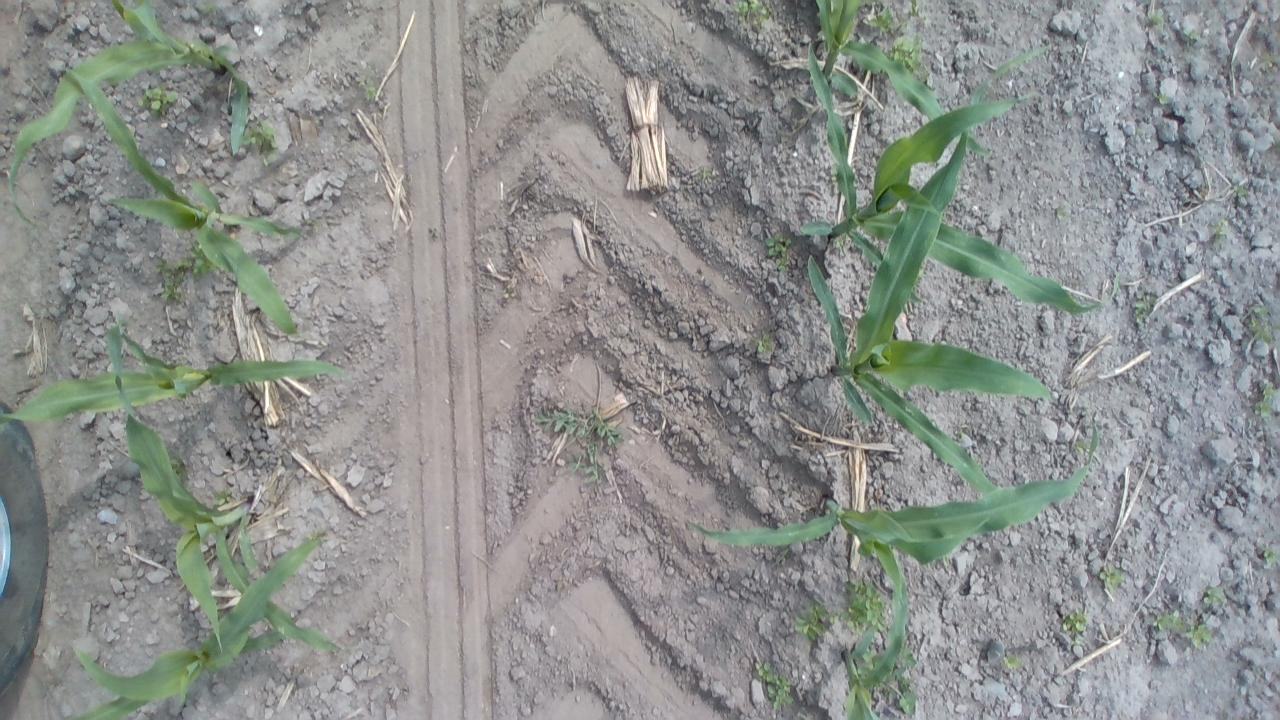Maize: (798, 129, 1060, 514), (796, 40, 1126, 328), (62, 57, 315, 344), (3, 0, 262, 238), (118, 396, 348, 664), (678, 460, 1108, 594), (57, 534, 338, 720), (0, 320, 355, 432), (802, 0, 996, 151), (842, 523, 936, 720)
Weeds: (532, 398, 625, 485), (836, 577, 888, 635), (751, 658, 802, 711), (791, 598, 835, 643), (760, 228, 799, 278), (238, 116, 282, 160), (886, 666, 920, 716), (154, 258, 188, 306), (134, 84, 182, 118), (886, 36, 928, 72), (1130, 284, 1162, 328), (1058, 606, 1091, 648), (1244, 302, 1274, 346), (1180, 618, 1216, 652), (186, 238, 216, 278), (733, 0, 776, 26), (1095, 560, 1127, 594), (864, 8, 904, 34), (1250, 380, 1276, 419), (1068, 437, 1095, 470), (1200, 583, 1230, 612), (361, 79, 390, 109), (1152, 608, 1182, 636), (690, 162, 716, 194), (1211, 219, 1232, 250), (1226, 180, 1253, 204), (1256, 542, 1278, 570), (197, 0, 224, 21), (1150, 86, 1174, 108), (753, 330, 775, 354), (1000, 653, 1026, 672), (832, 232, 852, 256), (500, 282, 522, 302), (214, 487, 234, 508), (1260, 50, 1278, 72), (1146, 8, 1168, 26), (1182, 27, 1200, 44)
